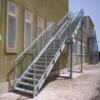stairs: (11, 37, 70, 97)
